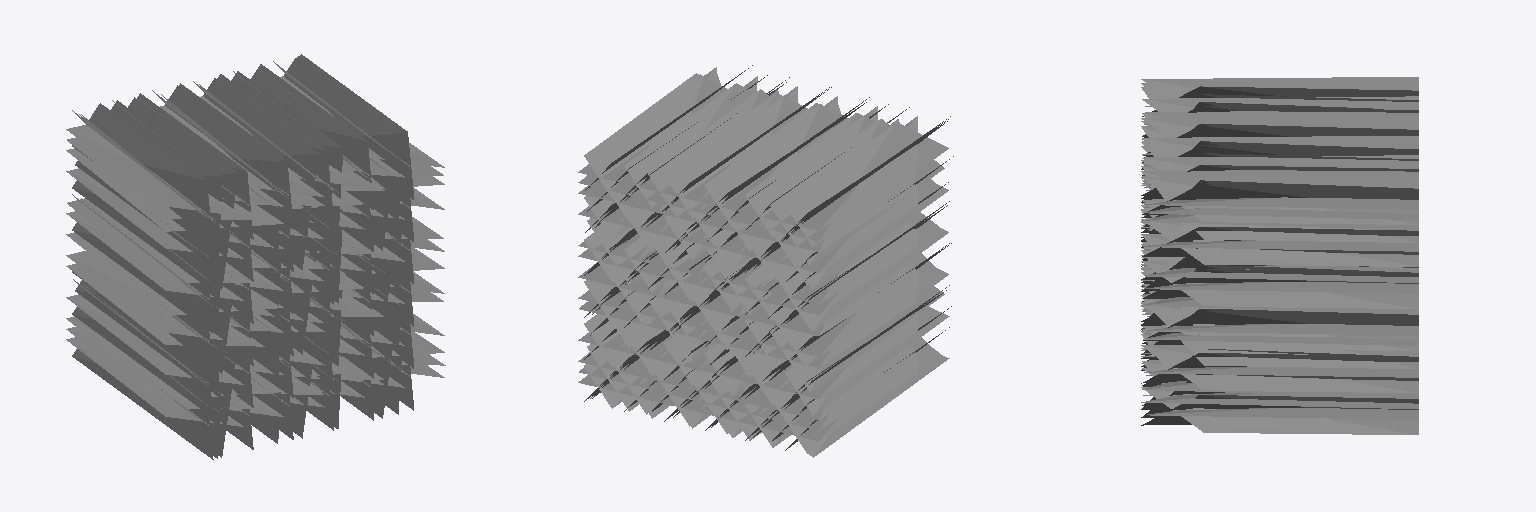
File: grass_lods.obj
The picture shows the model from 3 angles: view 1: azimuth 30°, elevation 25°; view 2: azimuth 150°, elevation 25°; view 3: azimuth 270°, elevation 25°; orthographic projection.
Parts seen in each view (by area): view 1: grass_lod_2, grass_lod_1, grass_lod_0; view 2: grass_lod_2, grass_lod_1, grass_lod_0; view 3: grass_lod_2, grass_lod_1, grass_lod_0.
Boxes of the visible parts, box(x1,y1,x2,y2) form: grass_lod_2: box(66, 54, 444, 459); grass_lod_1: box(66, 56, 445, 458); grass_lod_0: box(66, 58, 444, 457); grass_lod_2: box(578, 65, 953, 457); grass_lod_1: box(578, 74, 951, 455); grass_lod_0: box(578, 75, 947, 453); grass_lod_2: box(1141, 77, 1418, 434); grass_lod_1: box(1141, 80, 1418, 430); grass_lod_0: box(1141, 83, 1418, 427).
Bounding box in the file's own units: 1 × 1 × 1.